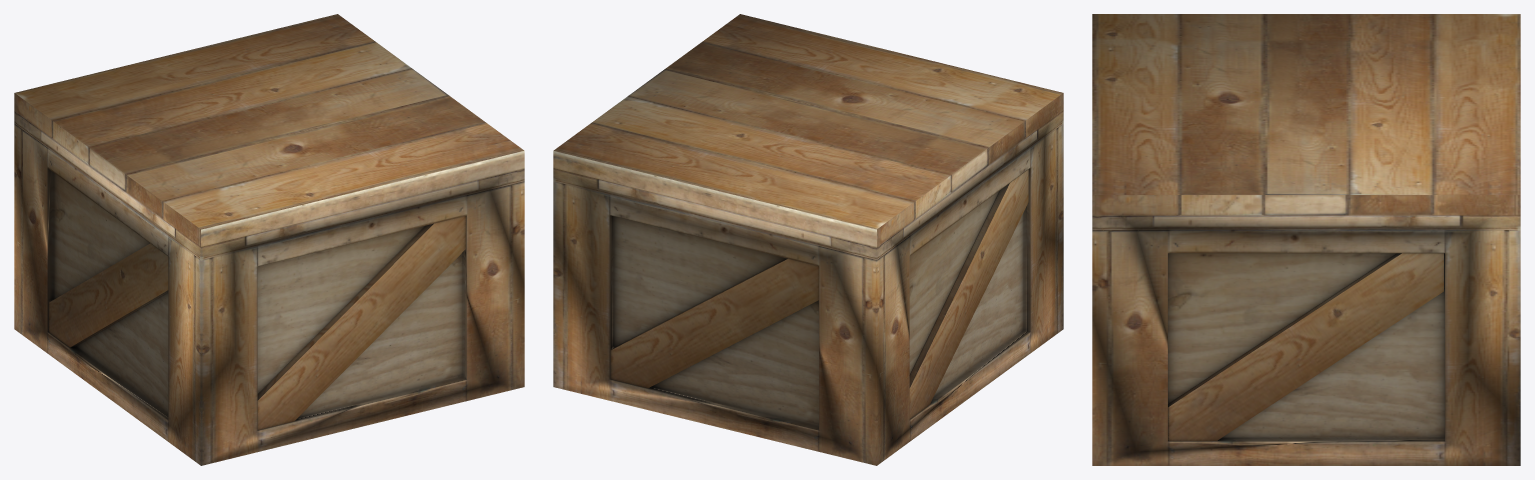
The picture shows the model from 3 angles, left to right: view 1: azimuth 30°, elevation 25°; view 2: azimuth 150°, elevation 25°; view 3: azimuth 270°, elevation 25°; orthographic projection. The views are drawn at different scales.
Parts seen in each view (by area): view 1: Mesh; view 2: Mesh; view 3: Mesh.
Part boxes in pixels (bbox=[...]): Mesh: bbox=[14, 14, 524, 465]; Mesh: bbox=[553, 14, 1063, 465]; Mesh: bbox=[1092, 14, 1520, 465].
Bounding box in the file's own units: 120 × 83.72 × 120.
